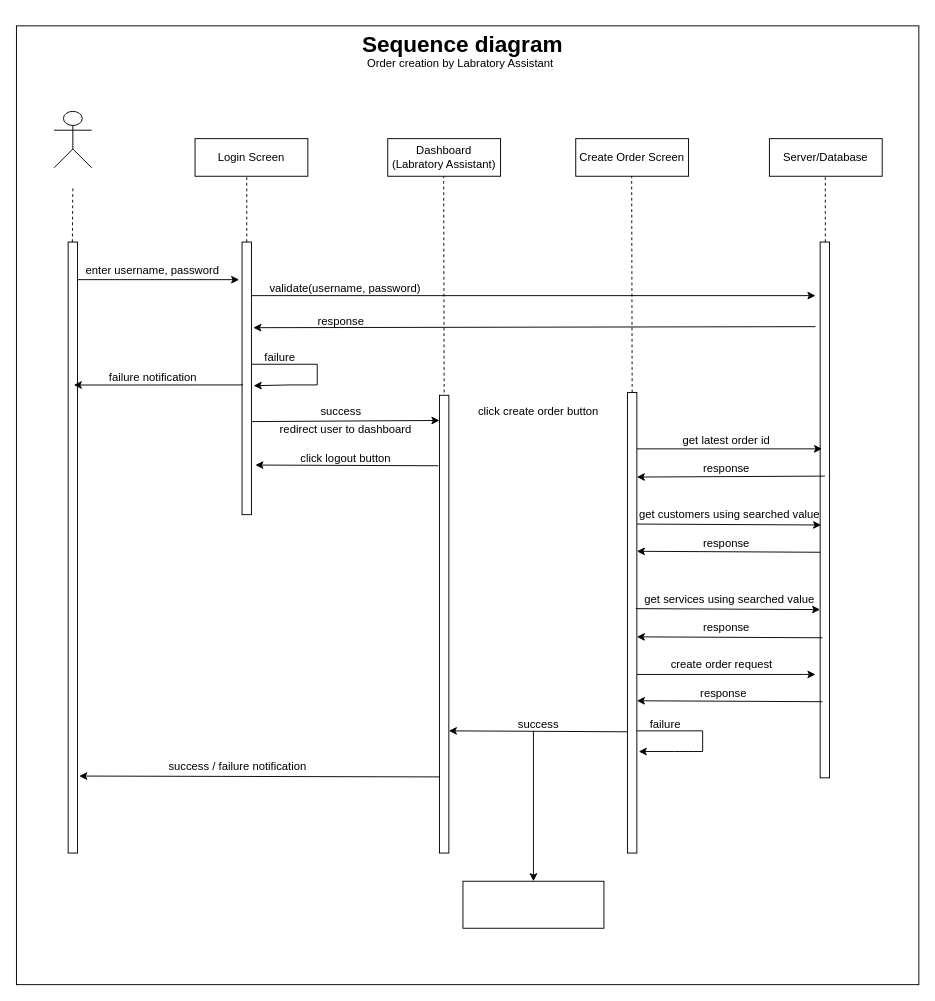
Some shapes in this 935 by 1001 pixel diagram are drawn without their labels. Here are the shapes that lost their labels. From the top down, the centre of each, then its label:
At point 72,139: "User".
At point 533,904: "Generate barcode PDF Generate order data PDF".
